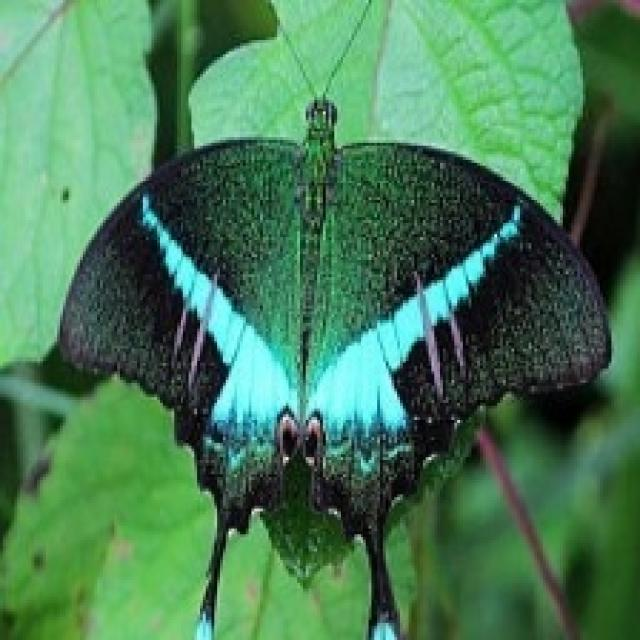butterfly: (54, 0, 612, 637)
